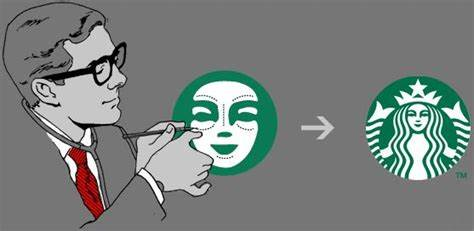starbucks Originale: (357, 69, 474, 186)
